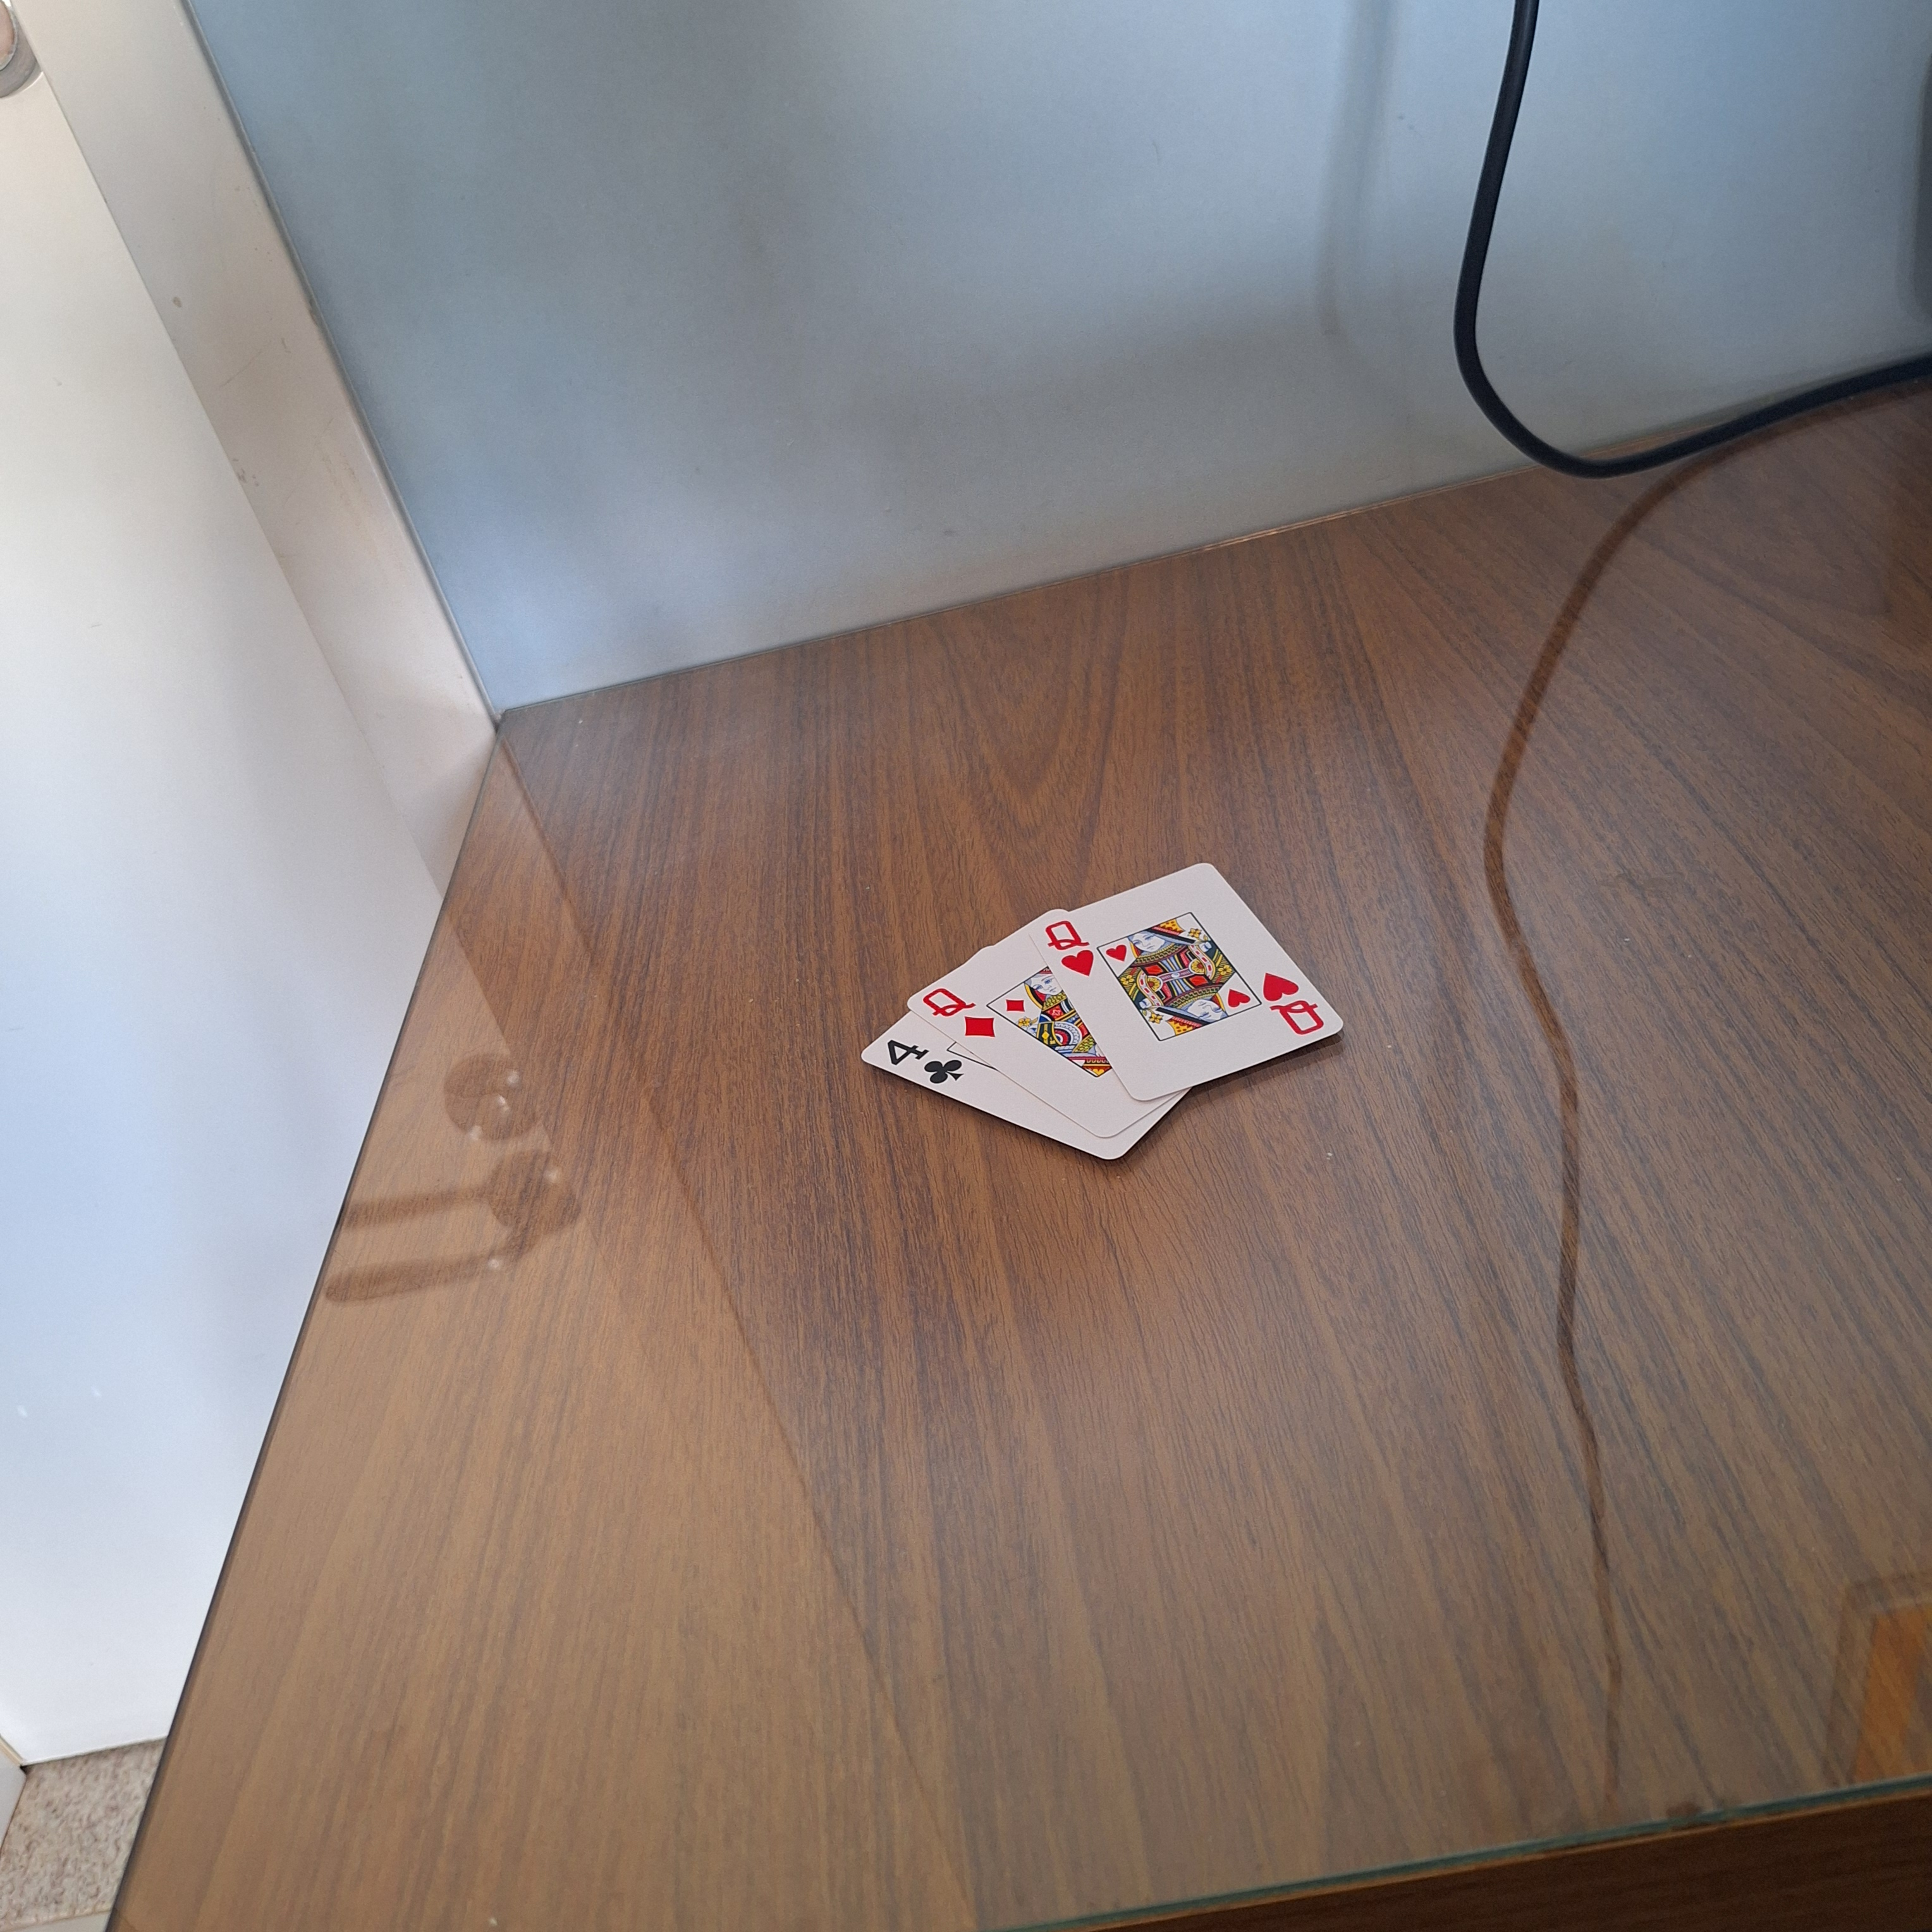4P: (879, 1031, 964, 1097)
QC: (1254, 966, 1330, 1044), (1042, 913, 1106, 980)
QO: (922, 984, 998, 1042)
